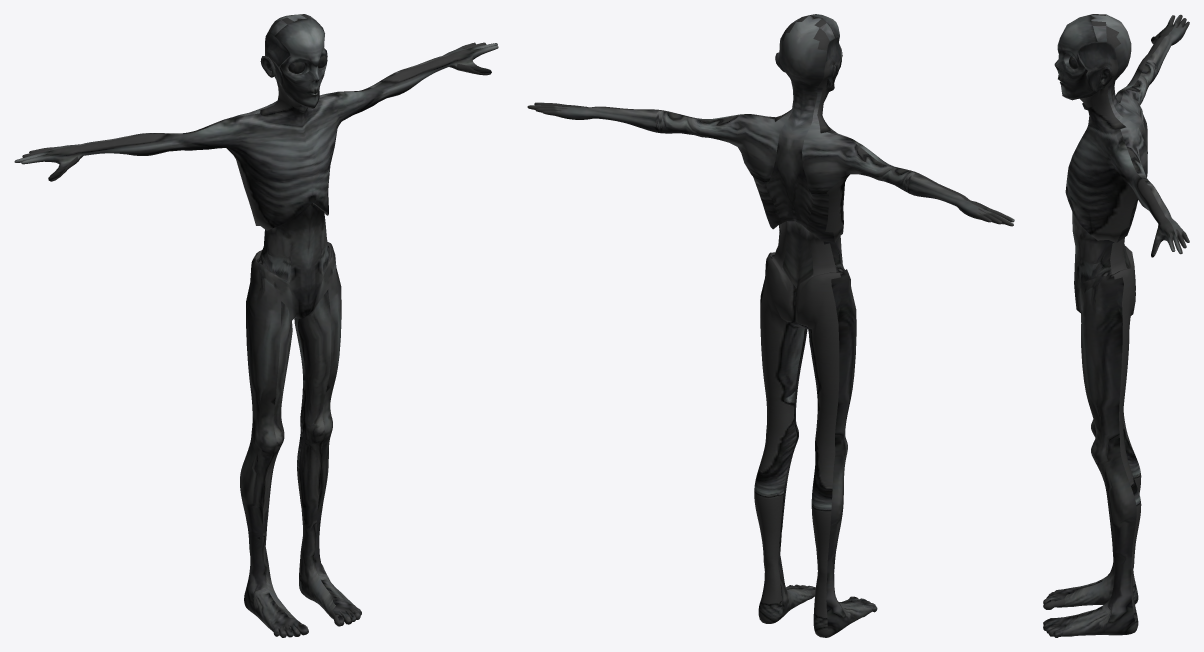
The model's file is preta_1784488673694_model.glb.
The picture shows the model from 3 angles, left to right: view 1: azimuth 30°, elevation 25°; view 2: azimuth 150°, elevation 25°; view 3: azimuth 270°, elevation 25°; orthographic projection.
Parts seen in each view (by area): view 1: Plane; view 2: Plane; view 3: Plane.
Boxes of the visible parts, x1,y1,x2,y2 form: Plane: [14, 14, 498, 637]; Plane: [527, 14, 1014, 637]; Plane: [1043, 14, 1189, 637].
Bounding box in the file's own units: 1.92 × 2.26 × 0.5008.
Materials: 1 (1 with a texture image).
